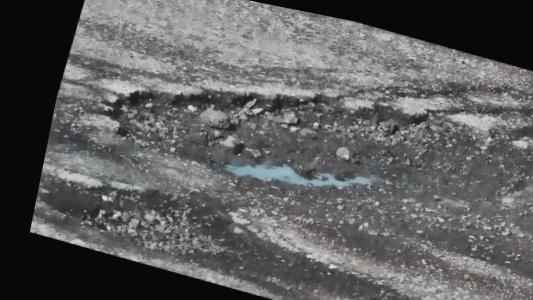pothole: (92, 25, 533, 258), (59, 164, 248, 275)
